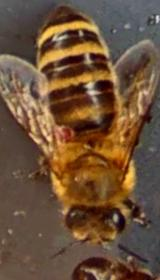varroa_mite: (42, 116, 84, 146)
